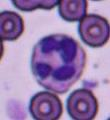N: (30, 33, 86, 92)
